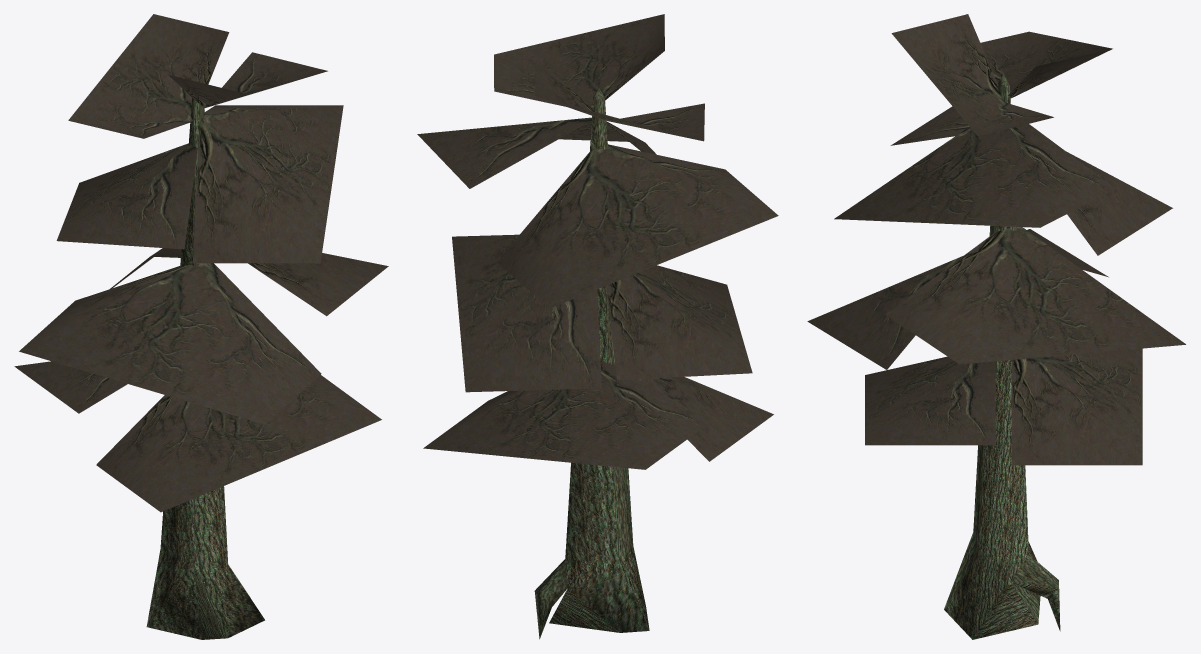
The model's file is decd_dath_humungtree_a1_l3.fbx.
3 views of the same model, side by side, from view 1: azimuth 30°, elevation 25°; view 2: azimuth 150°, elevation 25°; view 3: azimuth 270°, elevation 25° (orthographic).
Visible parts, largest first — view 1: mesh_node; view 2: mesh_node; view 3: mesh_node.
Boxes of the visible parts, bbox=[...] form: mesh_node: bbox=[14, 14, 388, 639]; mesh_node: bbox=[417, 14, 778, 639]; mesh_node: bbox=[807, 14, 1185, 639].
Bounding box in the file's own units: 44.63 × 73.62 × 43.38.
2 materials, 2 textured.
